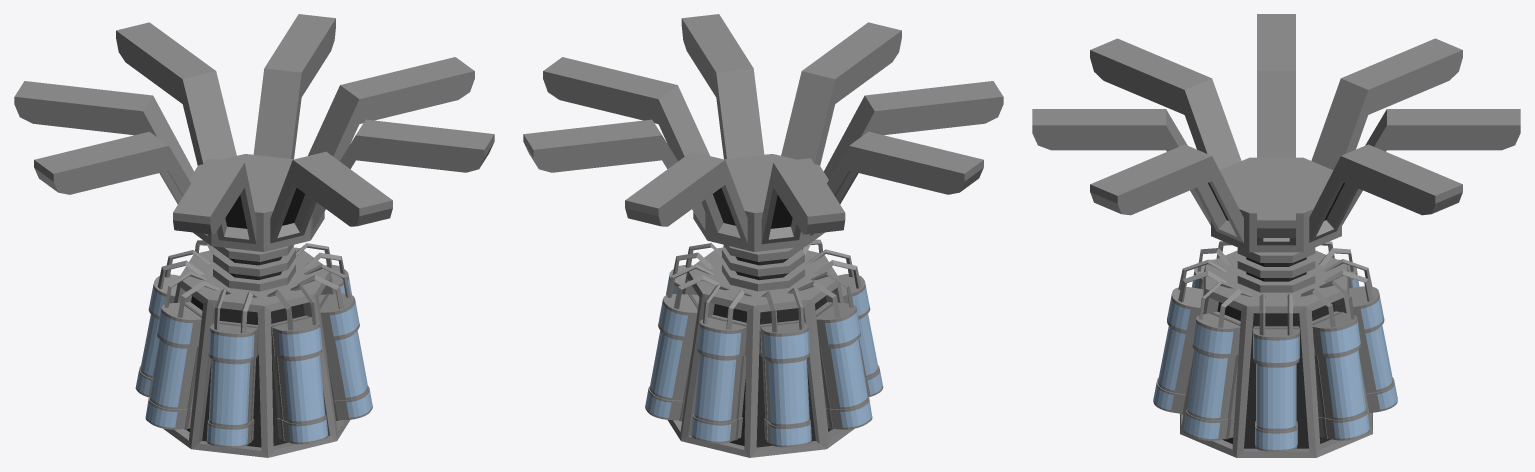
Rendered from HypersleepPod&Hub.fbx.
3 views of the same model, side by side, from view 1: azimuth 30°, elevation 25°; view 2: azimuth 150°, elevation 25°; view 3: azimuth 270°, elevation 25° (orthographic).
Visible parts, largest first — view 1: PodHub, PodTop.008, PodTop, PodTop.007, PodTop.002, PodTop.006, Pod.009, Pod.002, Pod, Pod.011, PodTop.003; view 2: PodHub, PodTop.006, PodTop.005, PodTop.007, PodTop.004, PodTop.008, Pod.009, Pod.005, Pod.006, Pod.008, PodTop.003; view 3: PodHub, PodTop.003, PodTop.002, PodTop.004, PodTop.005, PodTop, Pod.005, Pod.002, Pod, Pod.006.
Boxes of the visible parts, x1,y1,x2,y2 form: PodHub: (14,14,494,457); PodTop.008: (206,288,257,447); PodTop: (267,284,328,444); PodTop.007: (145,271,219,429); PodTop.002: (297,264,372,419); PodTop.006: (135,250,211,396); Pod.009: (171,302,202,429); Pod.002: (318,293,349,420); Pod: (271,315,317,442); Pod.011: (211,321,258,444); PodTop.003: (296,243,351,294); PodHub: (523,14,1003,457); PodTop.006: (761,288,811,447); PodTop.005: (691,283,752,443); PodTop.007: (798,271,872,429); PodTop.004: (645,264,719,419); PodTop.008: (807,249,883,396); Pod.009: (815,302,846,429); Pod.005: (668,294,699,421); Pod.006: (702,315,746,441); Pod.008: (759,320,809,444); PodTop.003: (666,243,721,295); PodHub: (1032,14,1520,457); PodTop.003: (1253,293,1299,451); PodTop.002: (1183,281,1252,440); PodTop.004: (1300,280,1369,440); PodTop.005: (1324,259,1397,411); PodTop: (1153,259,1227,411); Pod.005: (1312,311,1350,439); Pod.002: (1203,311,1240,440); Pod: (1170,287,1203,414); Pod.006: (1349,286,1380,413).
Bounding box in the file's own units: 2459 × 1667 × 2459.
